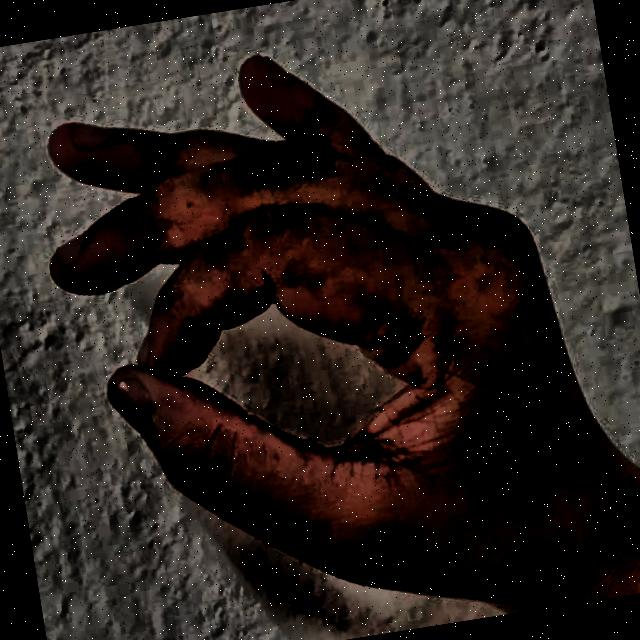Yo: (0, 0, 627, 640)
